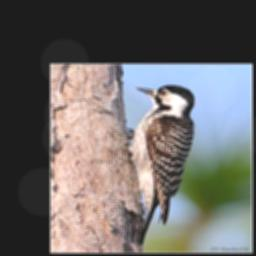Woodpecker: (120, 80, 198, 251)
